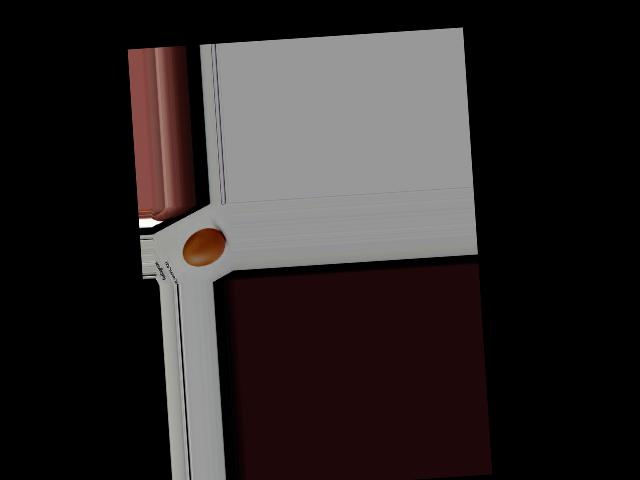egg: (181, 226, 227, 266)
